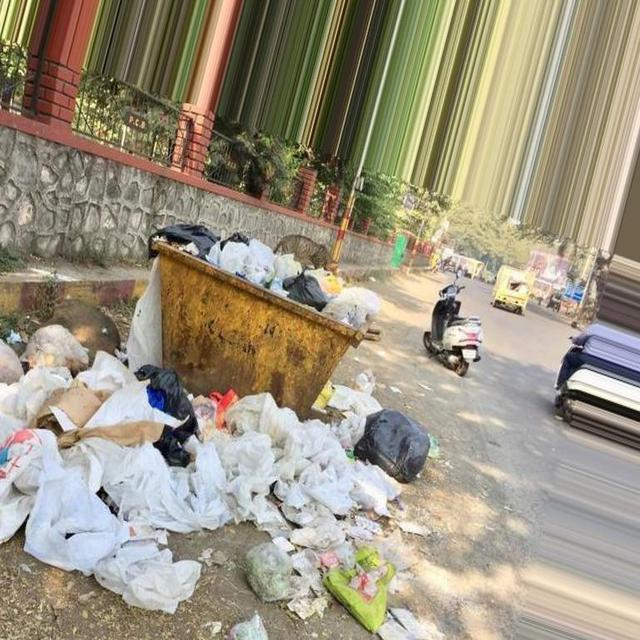garbage: (0, 297, 432, 639), (120, 204, 276, 324), (277, 257, 399, 319)
